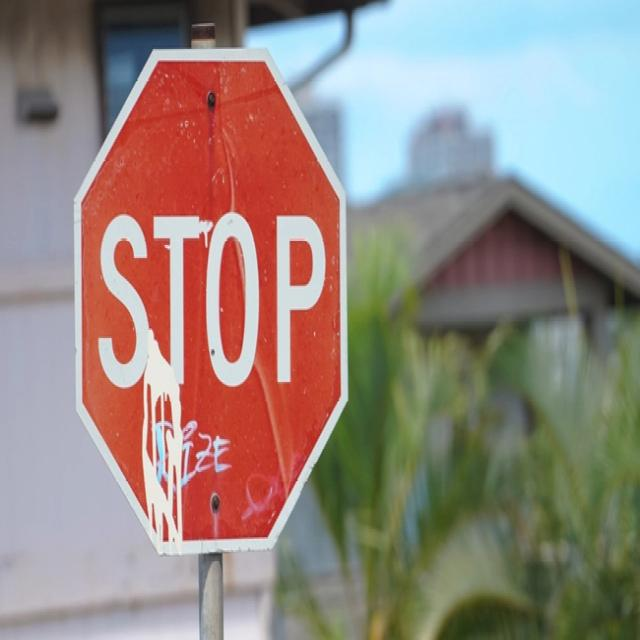Panneau-Stop: (63, 29, 353, 565)
